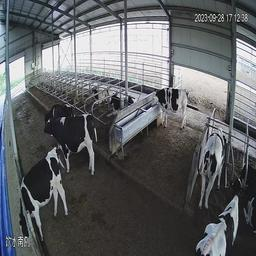cow: (7, 143, 78, 244), (177, 182, 244, 252), (43, 116, 100, 185), (197, 115, 226, 209), (151, 80, 190, 134), (234, 158, 254, 231), (88, 79, 107, 106), (110, 89, 129, 114)
